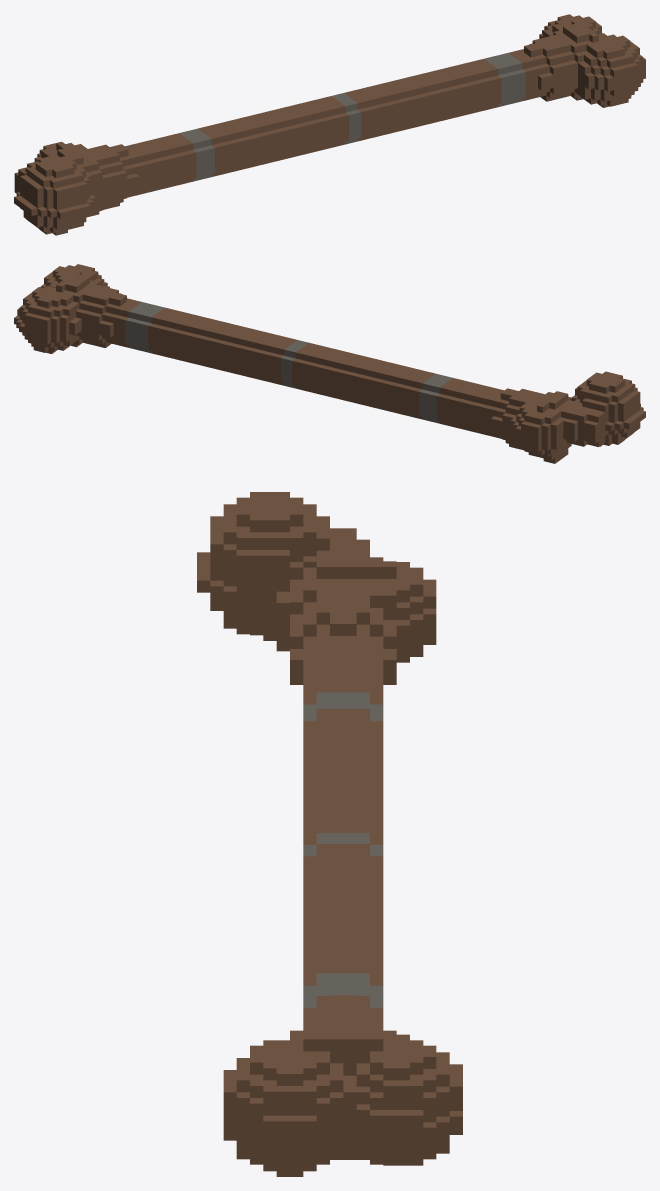
The model's file is bone_fossil.glb.
The picture shows the model from 3 angles, top to bottom: view 1: azimuth 30°, elevation 25°; view 2: azimuth 150°, elevation 25°; view 3: azimuth 270°, elevation 25°; orthographic projection. The views are drawn at different scales.
Parts seen in each view (by area): view 1: bone_fossil:compound; view 2: bone_fossil:compound; view 3: bone_fossil:compound.
Part boxes in pixels (x1,y1,x2,y2): bone_fossil:compound: [14, 14, 645, 235]; bone_fossil:compound: [14, 264, 645, 463]; bone_fossil:compound: [197, 492, 462, 1176].
Size of the model in its own units: 0.408 by 0.048 by 0.08.
